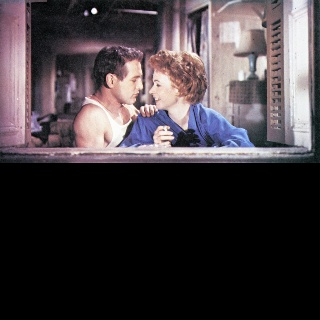without_mask: (114, 61, 142, 104)
